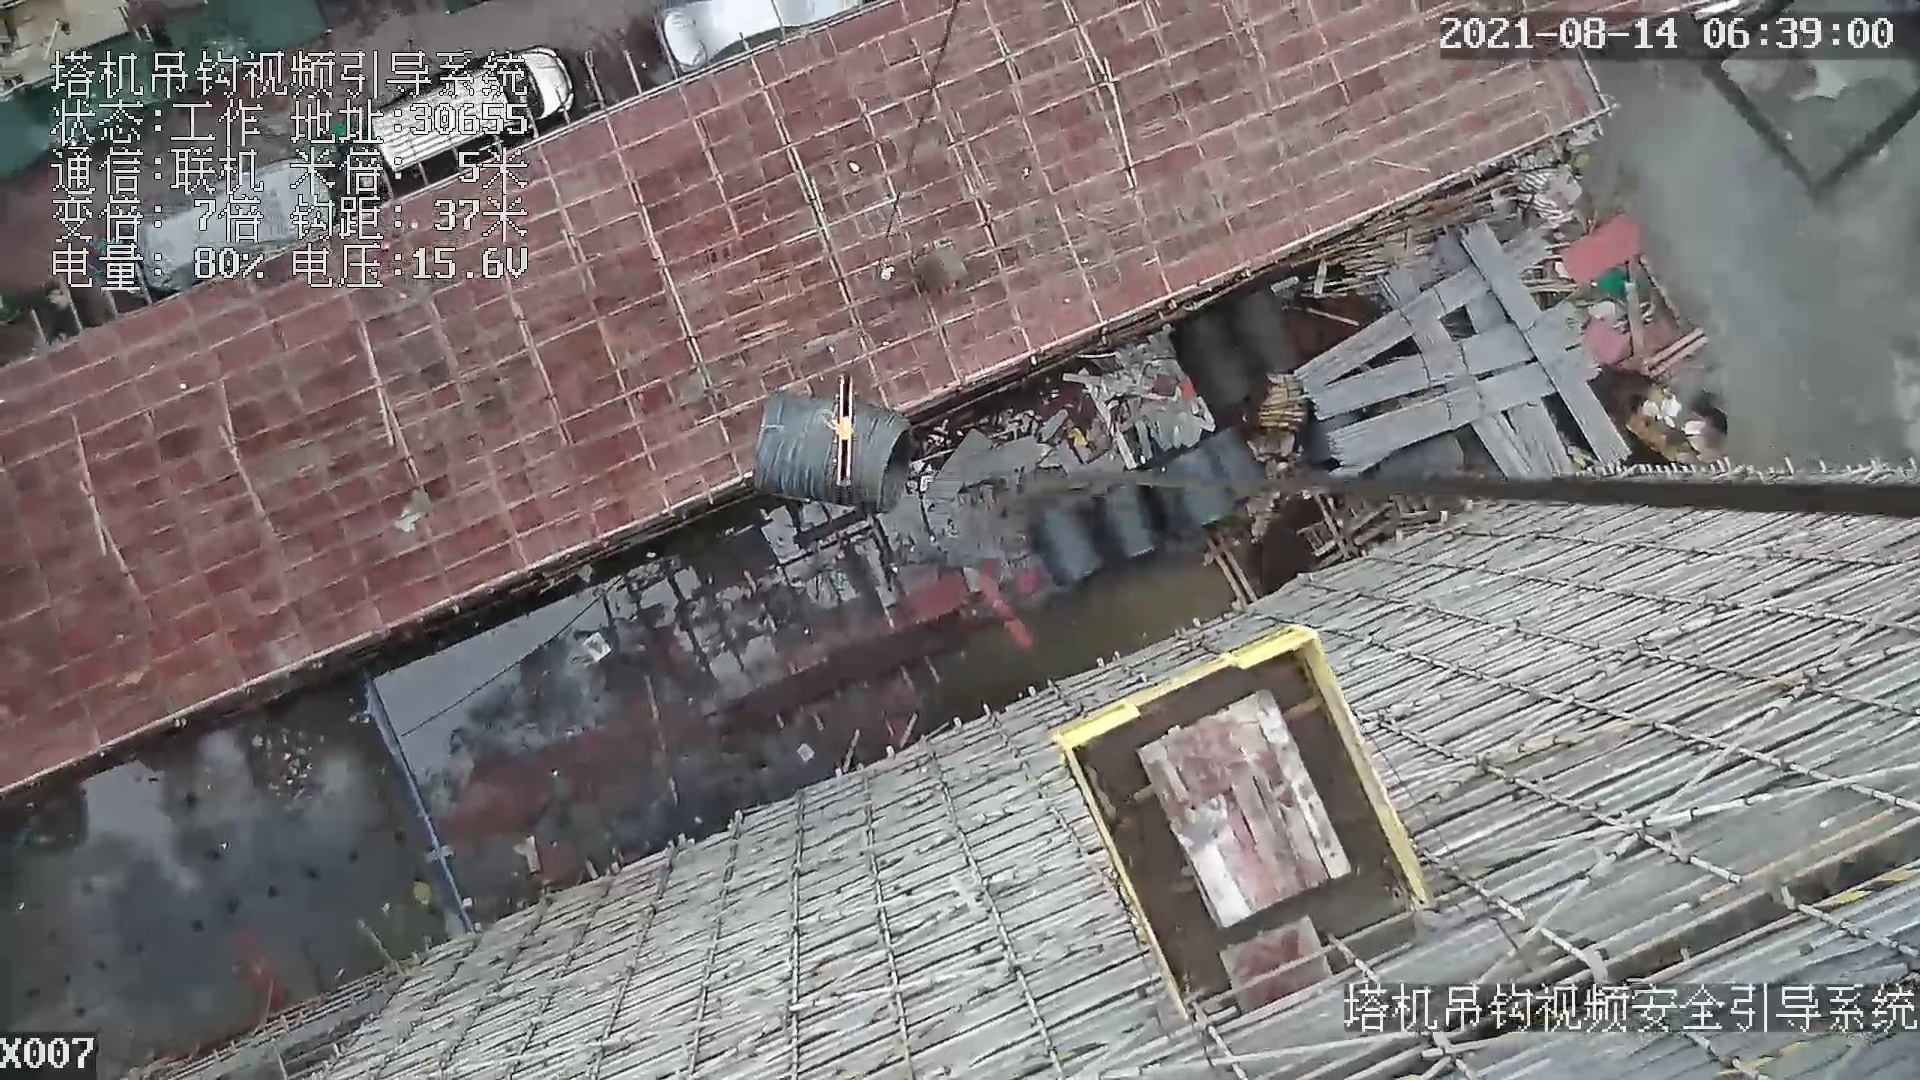hook: (815, 371, 862, 489)
